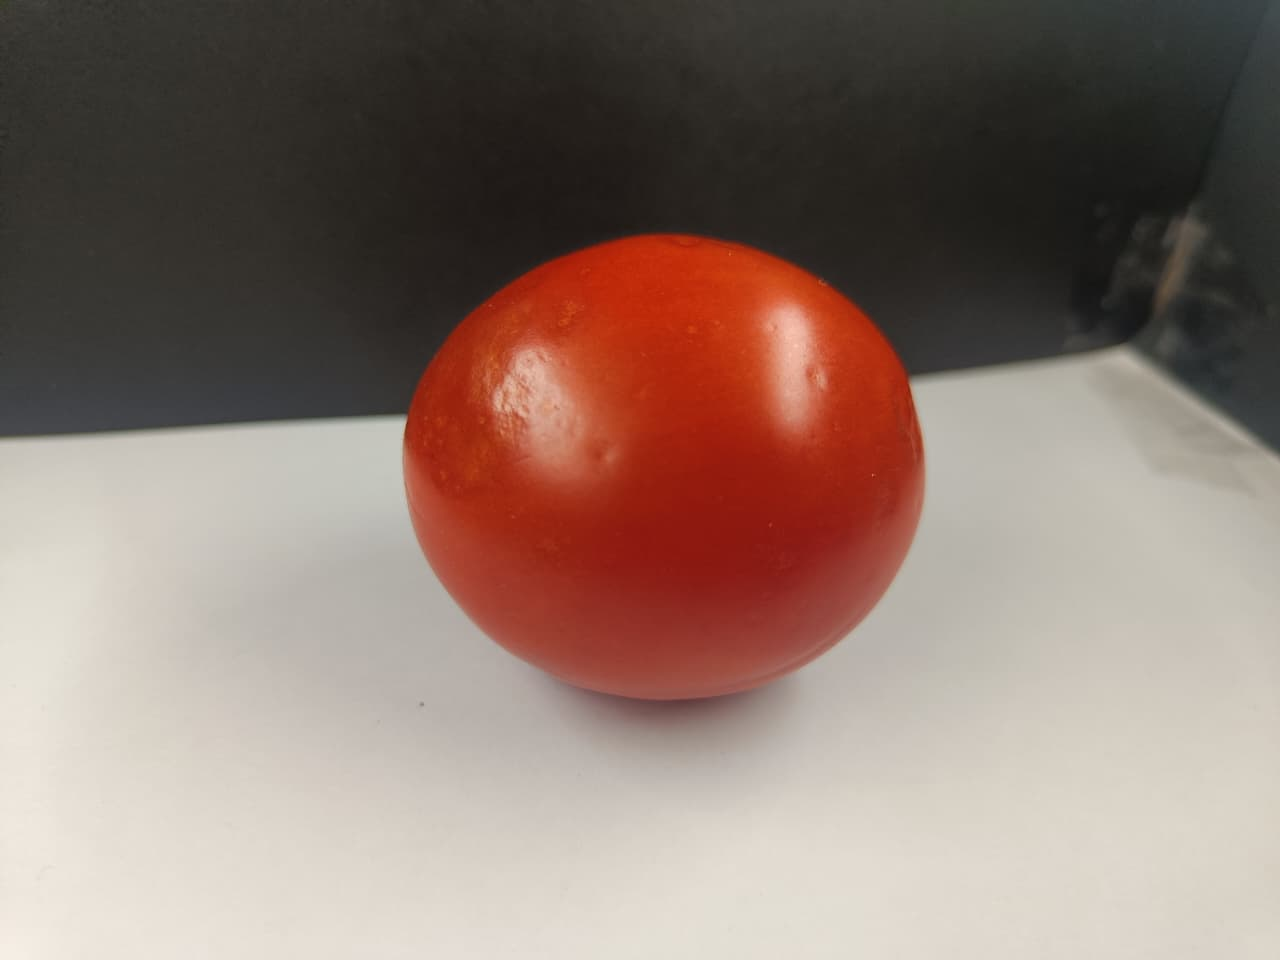ripe: (399, 219, 935, 709)
